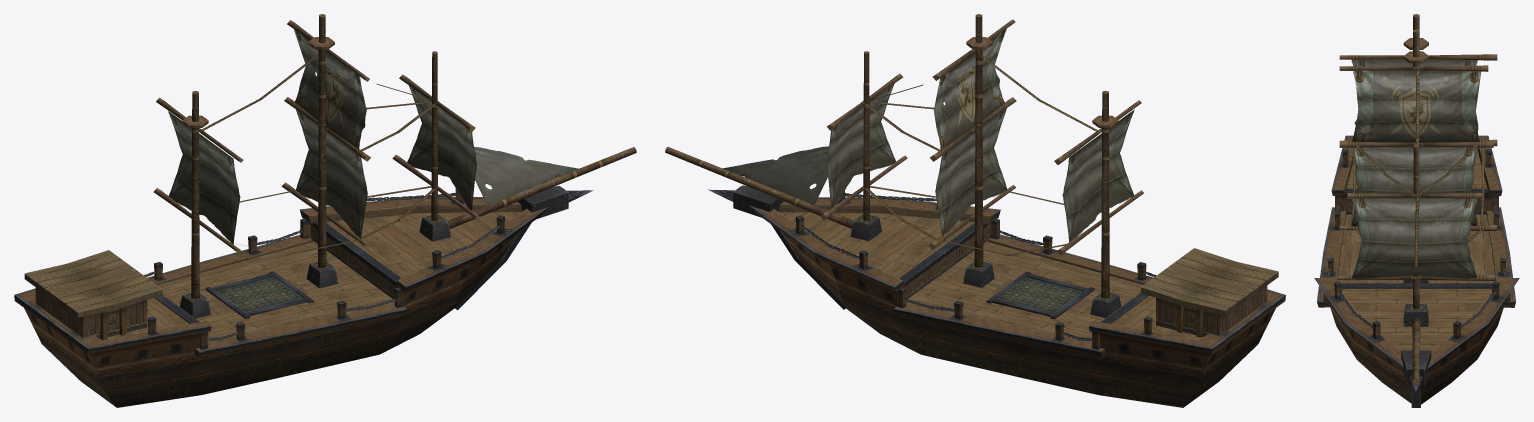
Rendered from common_city_chuan01.FBX.
3 renders of one model, left to right at view 1: azimuth 30°, elevation 25°; view 2: azimuth 150°, elevation 25°; view 3: azimuth 270°, elevation 25°, orthographic. The views are drawn at different scales.
Parts seen in each view (by area): view 1: common_city_chuan01; view 2: common_city_chuan01; view 3: common_city_chuan01.
Boxes of the visible parts, x1=… form: common_city_chuan01: x1=14, y1=14, x2=636, y2=407; common_city_chuan01: x1=665, y1=14, x2=1285, y2=407; common_city_chuan01: x1=1314, y1=14, x2=1519, y2=407.
Size of the model in its own units: 50.1 by 15.8 by 26.63.
